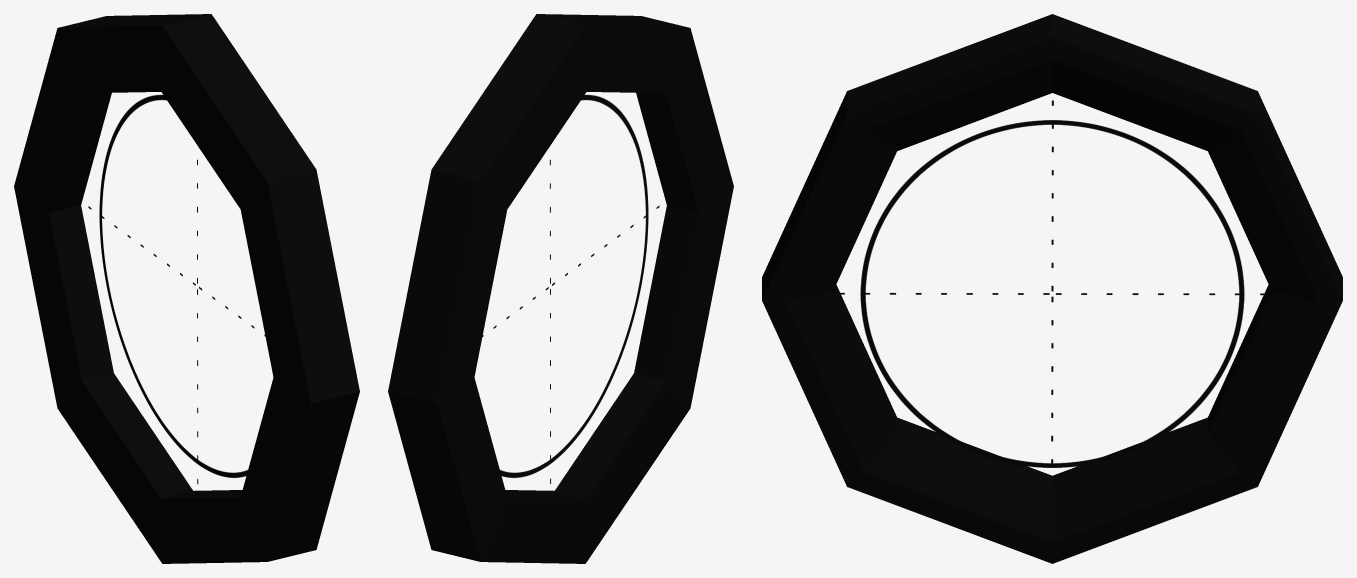
Rendered from Sniper_Lens.glb.
3 views of the same model, side by side, from view 1: azimuth 30°, elevation 25°; view 2: azimuth 150°, elevation 25°; view 3: azimuth 270°, elevation 25° (orthographic). The views are drawn at different scales.
Visible parts, largest first — view 1: Scope.001; view 2: Scope.001; view 3: Scope.001.
Part boxes in pixels (bbox=[...]): Scope.001: bbox=[14, 14, 359, 563]; Scope.001: bbox=[388, 14, 733, 563]; Scope.001: bbox=[762, 14, 1342, 563].
Size of what is drawn, in the model's own units: 0.025 by 0.2499 by 0.2499.
2 materials, 1 textured.
